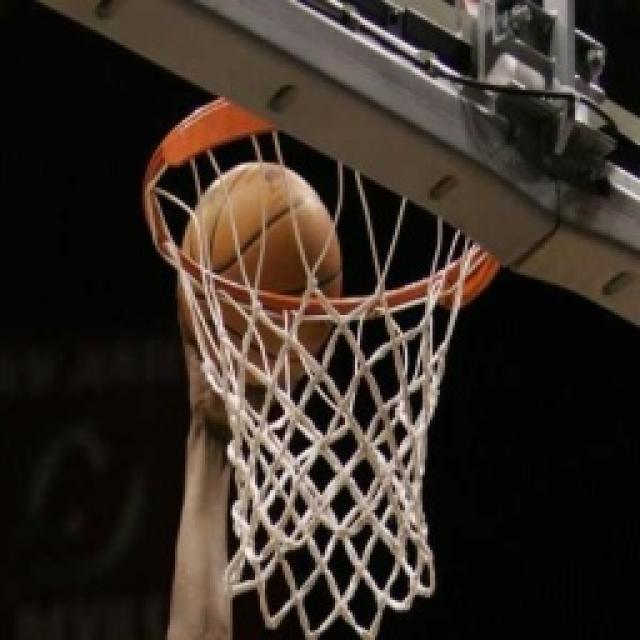rim: (178, 152, 352, 402)
